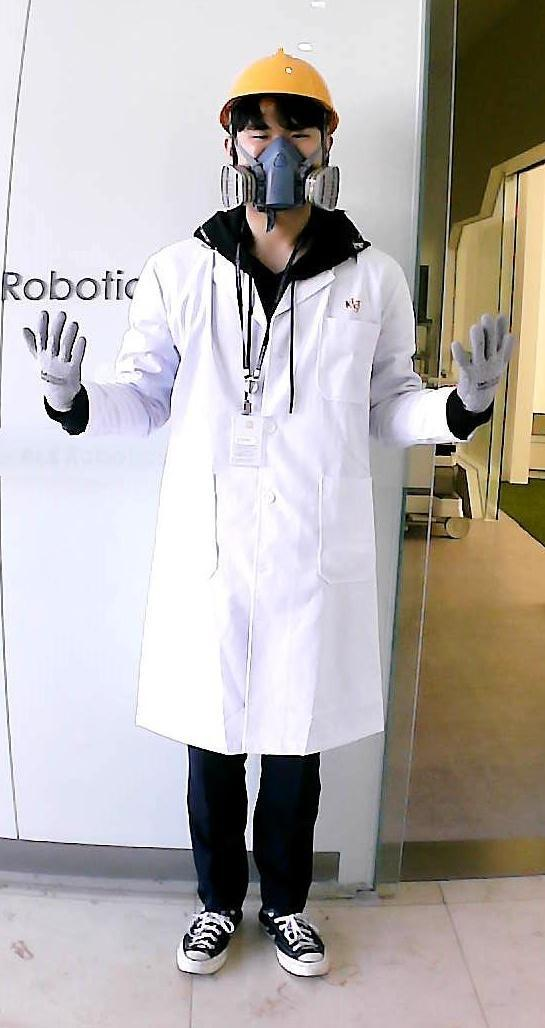lab_coat: (132, 264, 414, 745)
